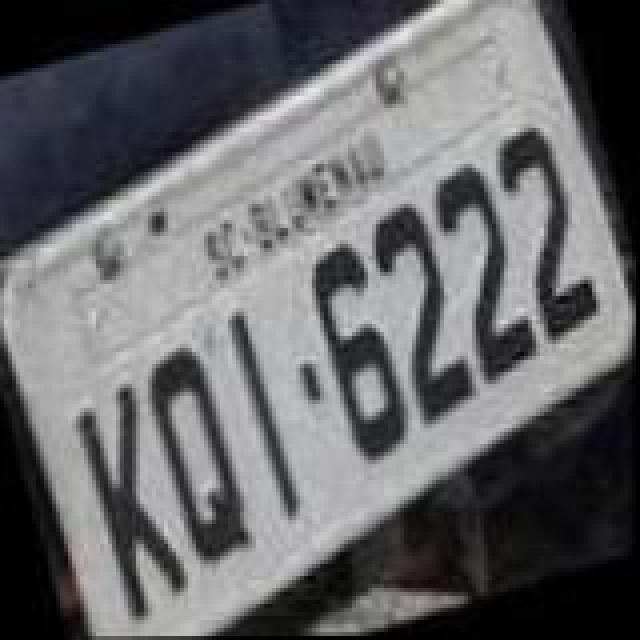1: (220, 298, 312, 526)
2: (358, 194, 490, 434), (418, 158, 550, 394), (482, 116, 614, 352)
6: (294, 236, 426, 476)
K: (64, 374, 204, 630)
Q: (130, 336, 270, 576)
